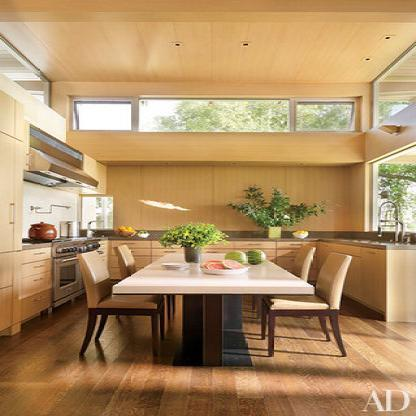chair: (70, 253, 166, 366), (264, 251, 354, 356), (256, 243, 325, 340), (119, 238, 176, 319)
